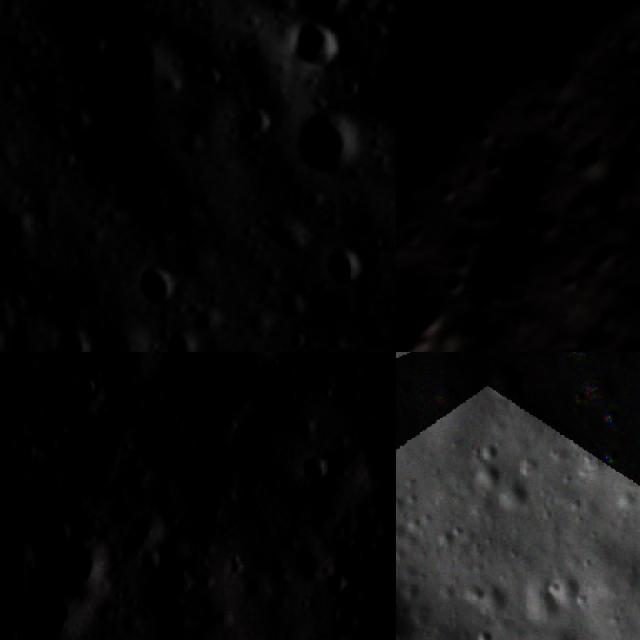crater: (84, 21, 190, 130), (275, 91, 374, 189), (163, 378, 256, 474), (396, 249, 477, 352), (269, 4, 361, 93), (31, 522, 120, 611), (0, 575, 93, 640), (312, 233, 381, 304), (179, 352, 287, 394), (124, 253, 190, 319), (226, 96, 286, 161), (606, 92, 640, 195), (564, 132, 622, 190), (467, 180, 522, 238), (461, 110, 516, 164), (38, 310, 105, 352), (153, 558, 204, 608), (288, 445, 340, 494), (355, 564, 396, 621), (270, 278, 316, 324), (567, 178, 613, 224), (314, 557, 359, 604), (146, 319, 209, 352), (295, 0, 370, 27), (367, 402, 396, 468), (551, 265, 594, 307), (432, 174, 474, 215), (489, 365, 533, 402), (94, 352, 147, 377), (545, 105, 580, 141), (282, 322, 316, 352), (618, 119, 640, 162), (486, 151, 514, 182), (623, 333, 640, 352)
